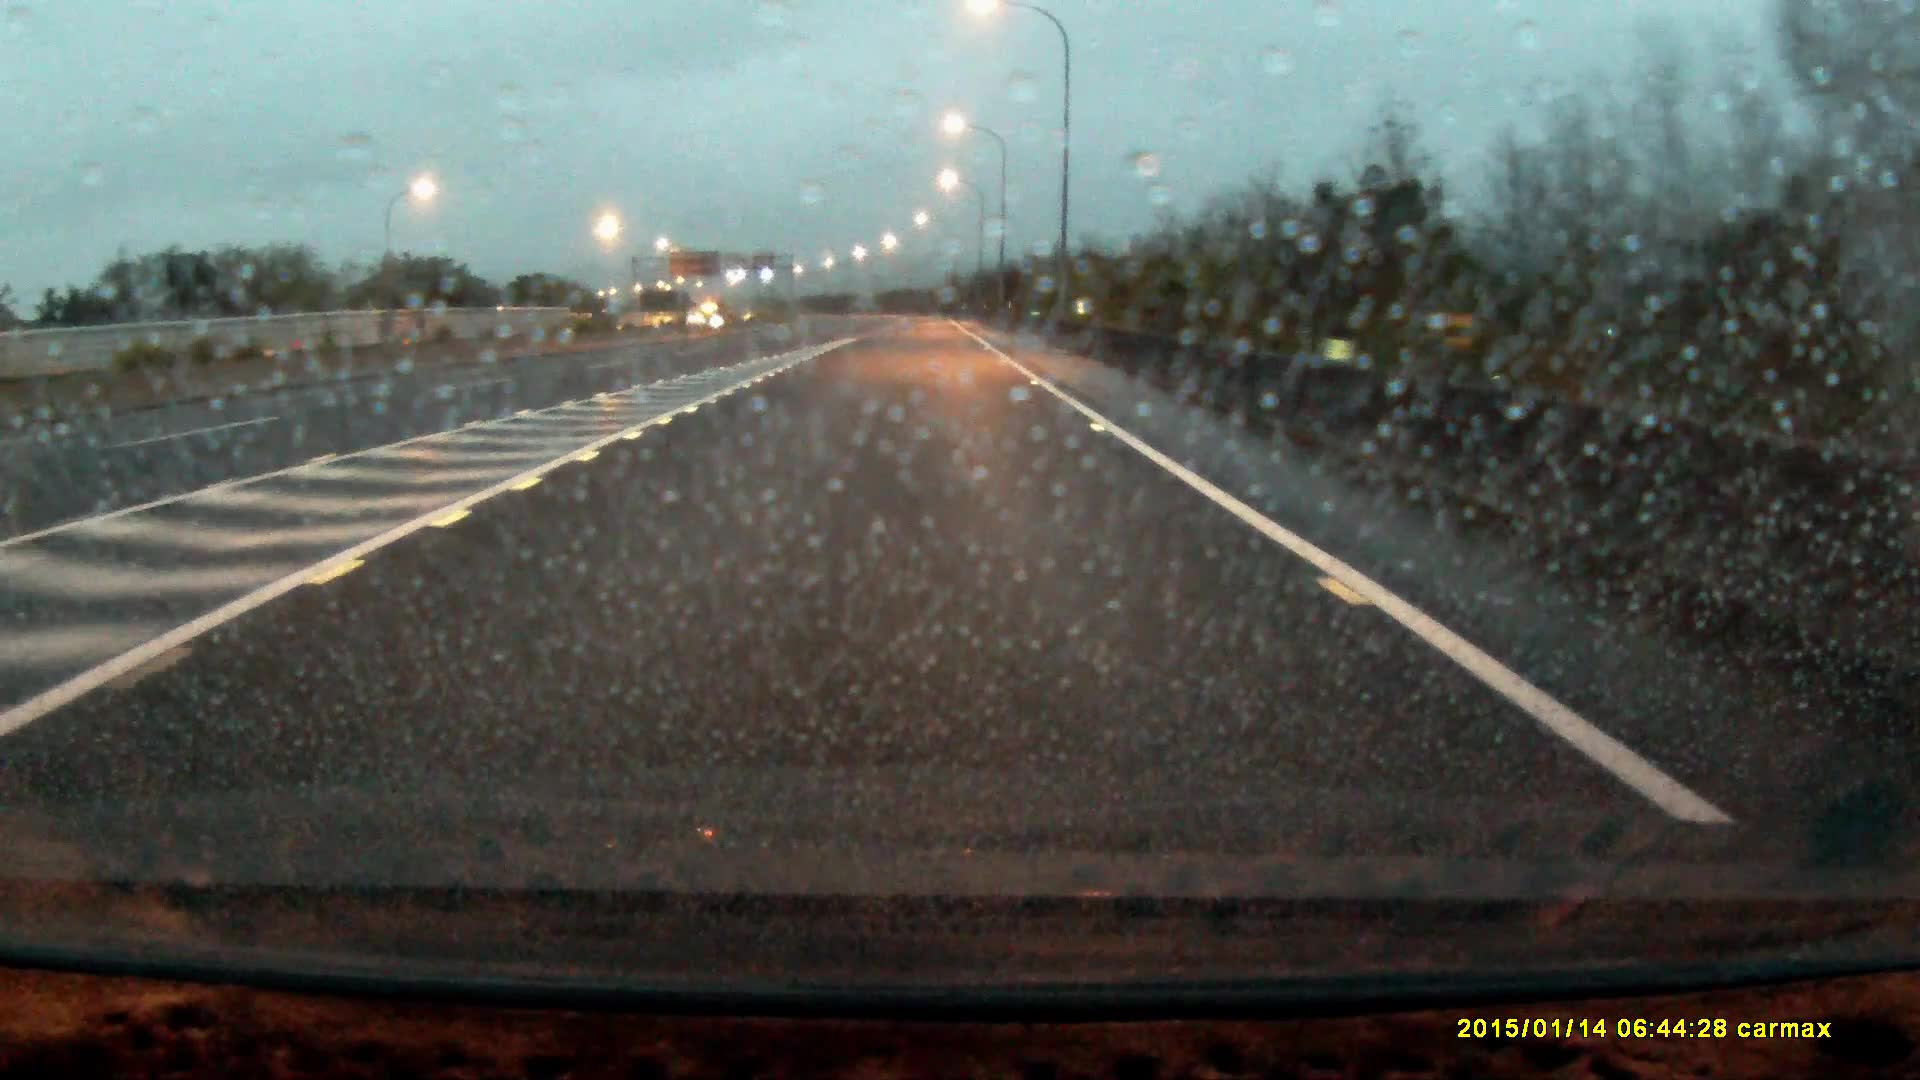vehicle: (696, 301, 728, 326)
